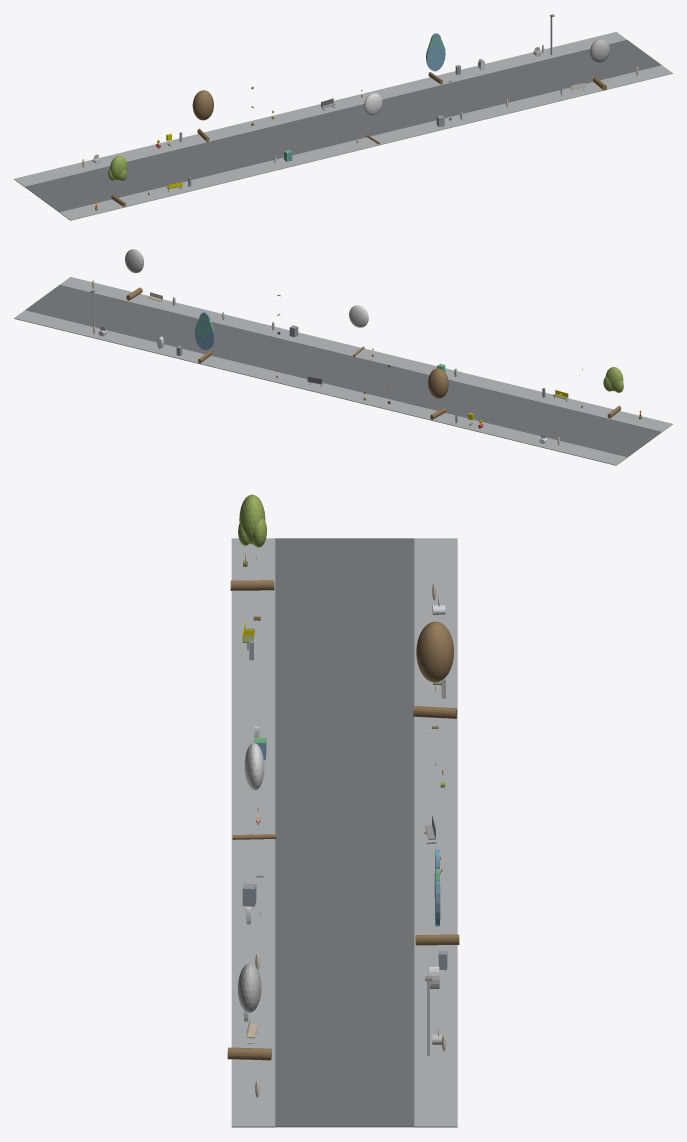
3 views of the same model, one above another, from view 1: azimuth 30°, elevation 25°; view 2: azimuth 150°, elevation 25°; view 3: azimuth 270°, elevation 25° (orthographic). The views are drawn at different scales.
Parts seen in each view (by area): view 1: road_slab, sidewalk_left, sidewalk_right, inst_0015, inst_0013, inst_0012, inst_0016, inst_0014; view 2: road_slab, sidewalk_right, sidewalk_left, inst_0015, inst_0013, inst_0012, inst_0016, inst_0014; view 3: road_slab, sidewalk_left, sidewalk_right, inst_0013, inst_0012, inst_0016, inst_0014, inst_0015.
Part boxes in pixels (<box>): road_slab: <box>25,40,661,212</box>; sidewalk_left: <box>59,65,672,220</box>; sidewalk_right: <box>14,32,626,186</box>; inst_0015: <box>426,33,445,84</box>; inst_0013: <box>192,90,213,142</box>; inst_0012: <box>108,155,127,207</box>; inst_0016: <box>590,39,609,90</box>; inst_0014: <box>363,93,382,144</box>; road_slab: <box>25,285,661,457</box>; sidewalk_right: <box>14,310,627,465</box>; sidewalk_left: <box>60,277,672,431</box>; inst_0015: <box>194,312,214,363</box>; inst_0013: <box>428,368,448,419</box>; inst_0012: <box>603,367,623,418</box>; inst_0016: <box>125,249,143,300</box>; inst_0014: <box>349,305,368,356</box>; road_slab: <box>275,538,414,1127</box>; sidewalk_left: <box>231,538,275,1127</box>; sidewalk_right: <box>414,538,457,1127</box>; inst_0013: <box>413,621,457,718</box>; inst_0012: <box>230,494,274,590</box>; inst_0016: <box>227,963,271,1060</box>; inst_0014: <box>232,743,276,839</box>; inst_0015: <box>415,849,459,945</box>.
Bounding box in the file's own units: 80 × 6.08 × 13.32.
